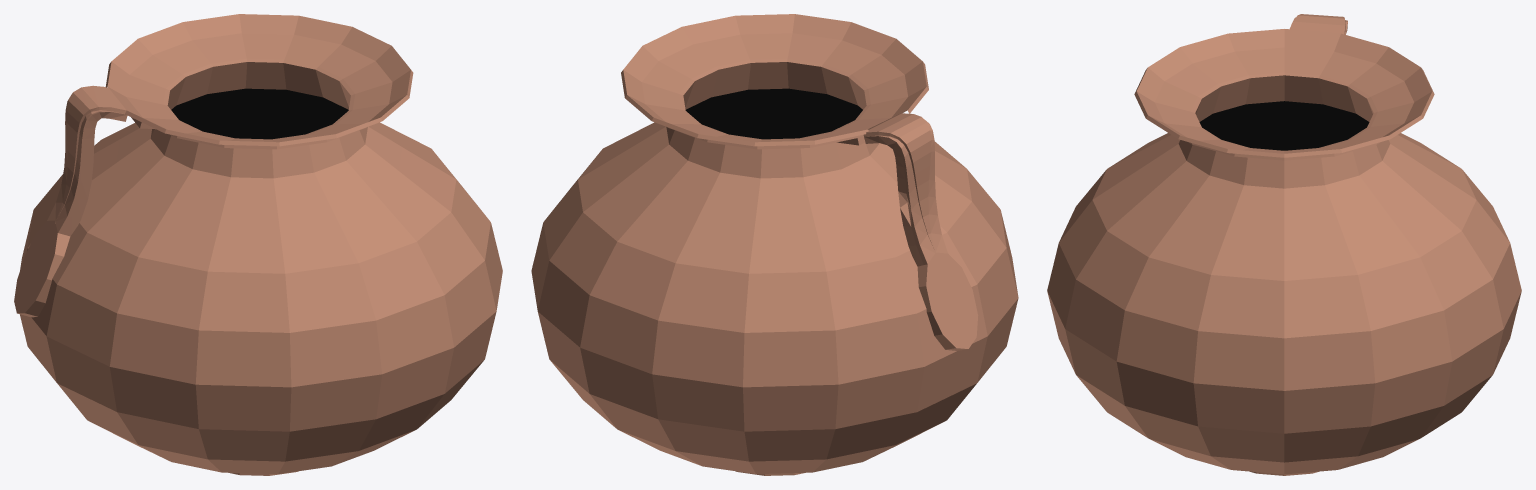
Rendered from Kugelige Bronzekanne.fbx.
3 views of the same model, side by side, from view 1: azimuth 30°, elevation 25°; view 2: azimuth 150°, elevation 25°; view 3: azimuth 270°, elevation 25° (orthographic). The views are drawn at different scales.
Parts seen in each view (by area): view 1: Kugelige Bronzekanne. Monocolour; view 2: Kugelige Bronzekanne. Monocolour; view 3: Kugelige Bronzekanne. Monocolour.
Part boxes in pixels (x1=…): Kugelige Bronzekanne. Monocolour: x1=14, y1=14, x2=502, y2=475; Kugelige Bronzekanne. Monocolour: x1=531, y1=14, x2=1018, y2=475; Kugelige Bronzekanne. Monocolour: x1=1047, y1=14, x2=1521, y2=475.
Size of the model in its own units: 203 by 166 by 200.
